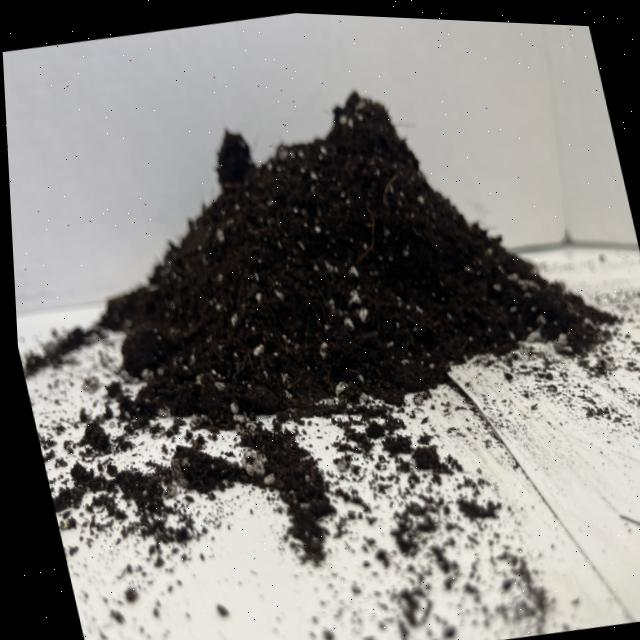soil: (47, 38, 635, 467)
